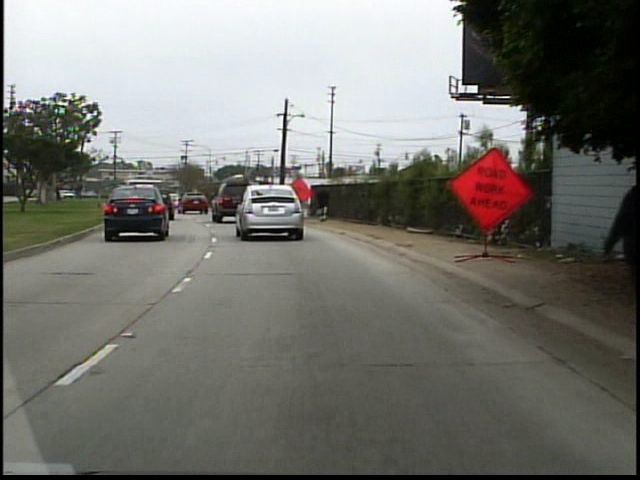person: (589, 157, 637, 318), (314, 183, 331, 224)
